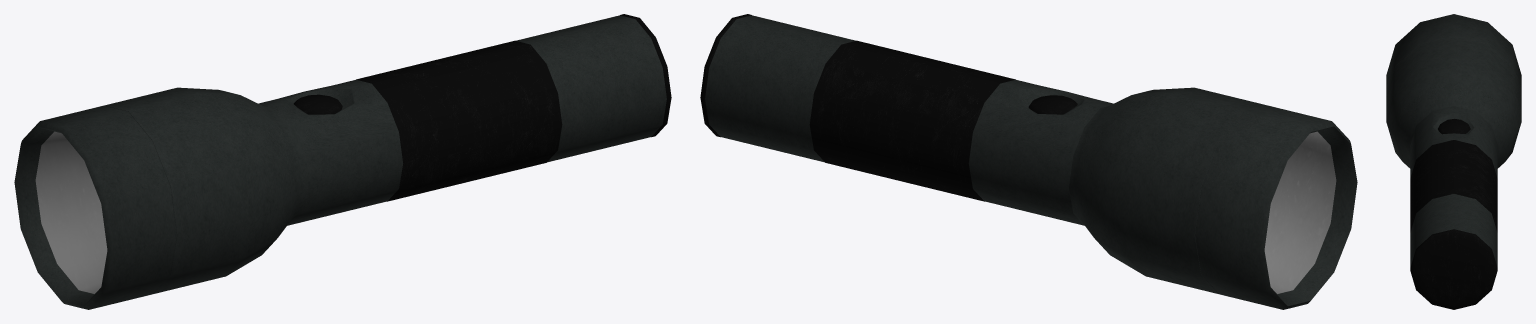
The model's file is Flashlight.fbx.
3 views of the same model, side by side, from view 1: azimuth 30°, elevation 25°; view 2: azimuth 150°, elevation 25°; view 3: azimuth 270°, elevation 25° (orthographic). The views are drawn at different scales.
Parts seen in each view (by area): view 1: Button; view 2: Button; view 3: Button.
Part boxes in pixels (x1,y1,x2,y2): Button: (14, 14, 671, 309); Button: (700, 14, 1357, 309); Button: (1386, 14, 1521, 309).
Bounding box in the file's own units: 295 × 84.97 × 84.97.
